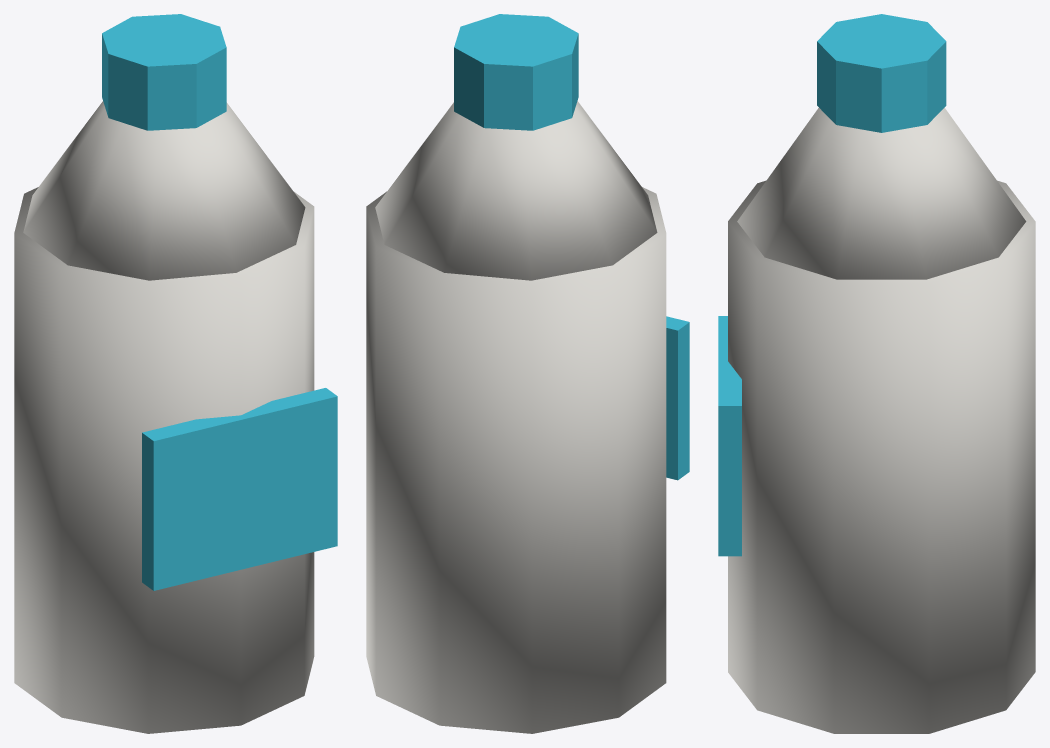
Rendered from good_milk.glb.
The picture shows the model from 3 angles, left to right: view 1: azimuth 30°, elevation 25°; view 2: azimuth 150°, elevation 25°; view 3: azimuth 270°, elevation 25°; orthographic projection.
Parts seen in each view (by area): view 1: good_milk; view 2: good_milk; view 3: good_milk.
Boxes of the visible parts, x1,y1,x2,y2 form: good_milk: (14, 14, 337, 733); good_milk: (366, 14, 689, 733); good_milk: (718, 14, 1035, 733).
Bounding box in the file's own units: 0.1236 × 0.294 × 0.134.
